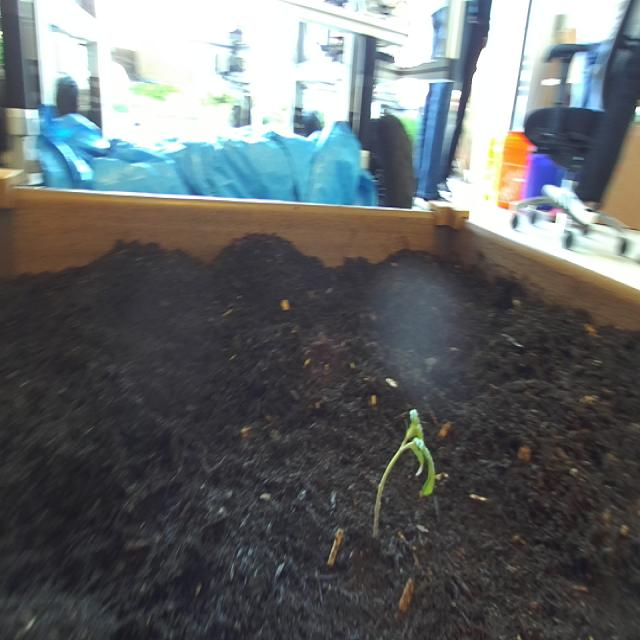Healthy: (363, 385, 448, 549)
